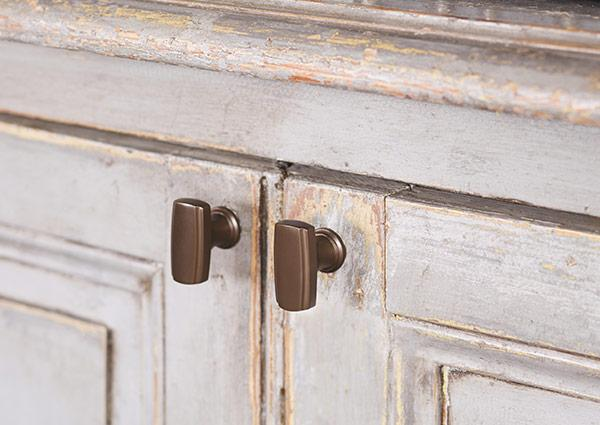cabinet_door: (272, 194, 599, 423), (10, 132, 252, 422)
handle: (161, 194, 242, 304), (269, 213, 342, 316)
